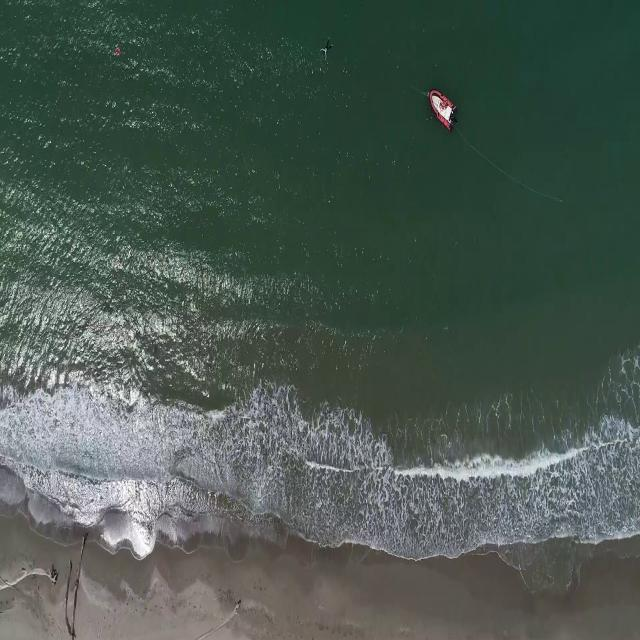boat: (429, 87, 456, 132)
life_buoy: (113, 48, 121, 59)
person: (321, 38, 334, 64)
wood: (176, 598, 243, 640), (66, 531, 87, 636), (0, 565, 62, 589)
